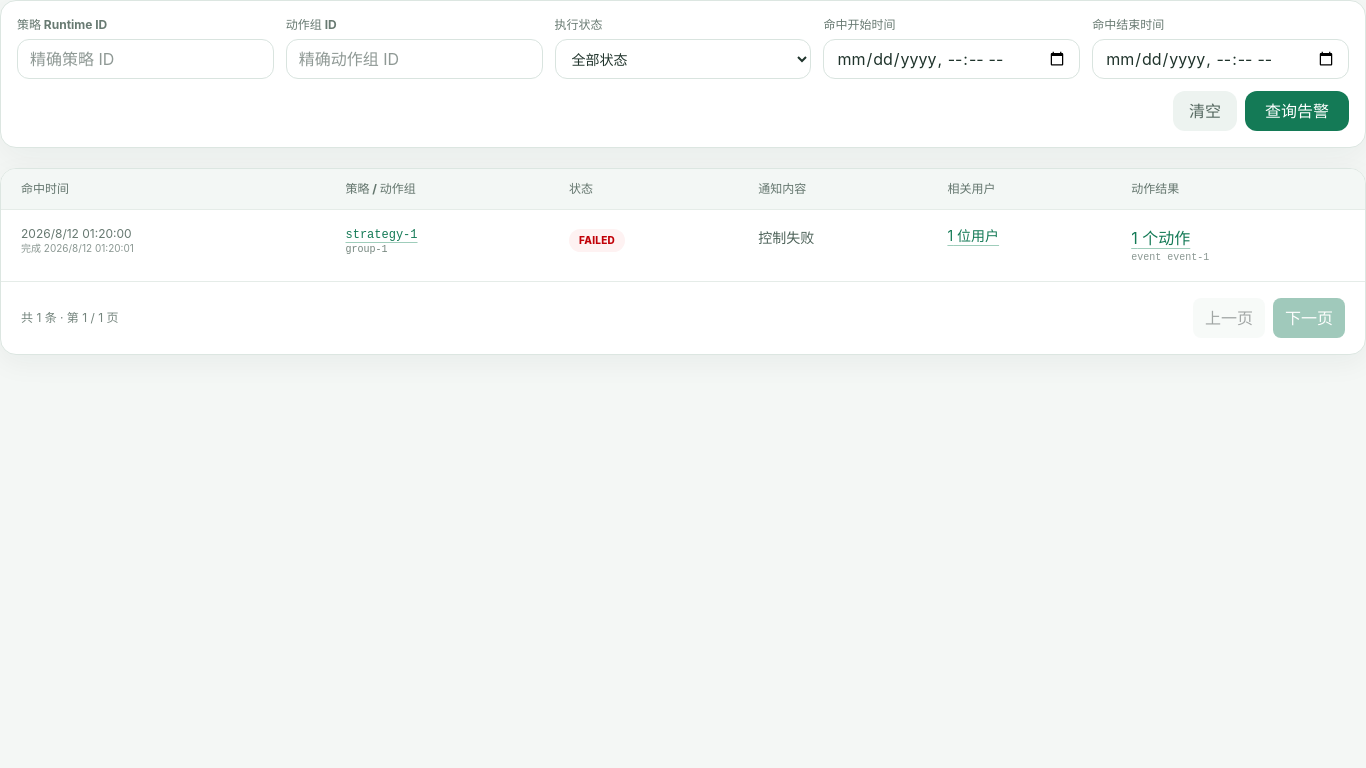
log explorers › opens alert actions and loads linked strategy
Click the button "1 个动作".
click(1161, 238)  # box [1131,226,1190,250]
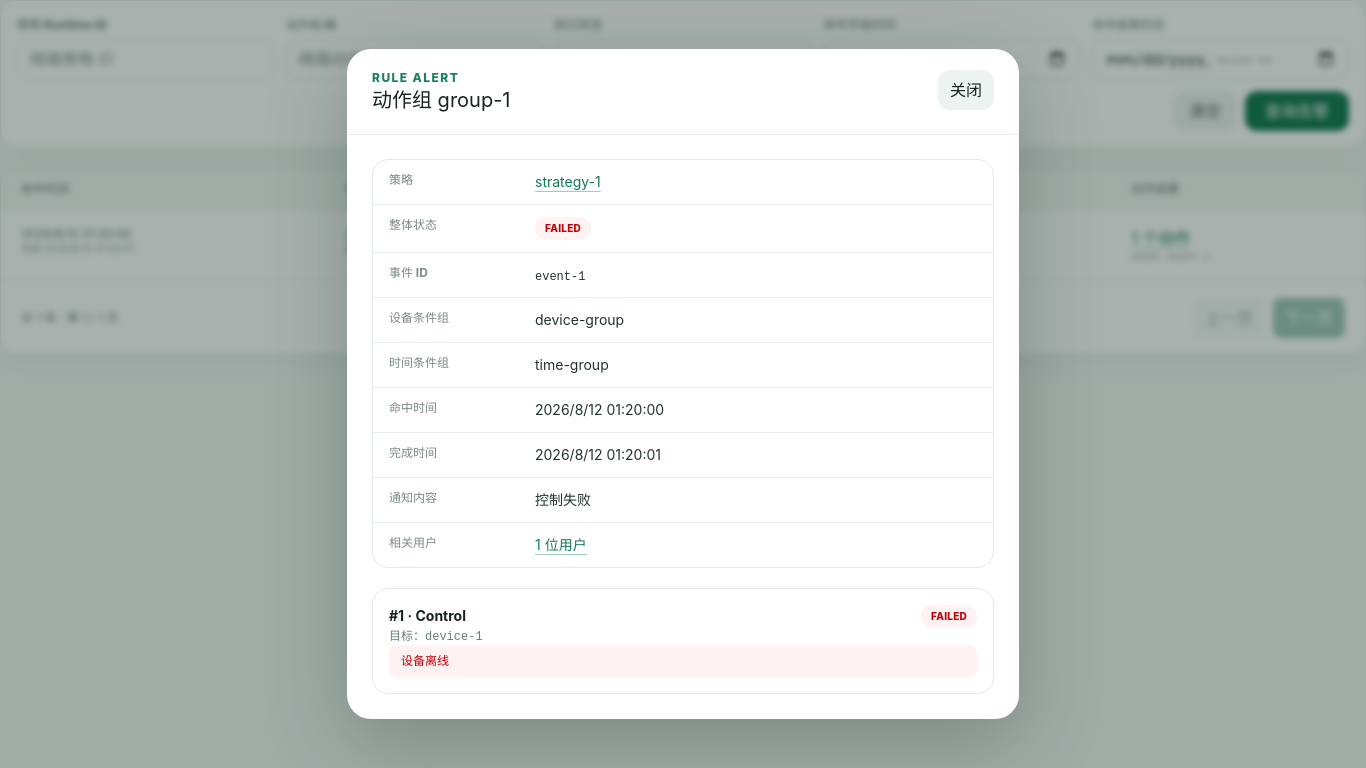
Check: the dialog "动作组 group-1" is shown
Check: the text "设备离线" is shown, box [389,645,977,677]
Click the button "strategy-1".
click(568, 182)  # box [535,172,601,192]
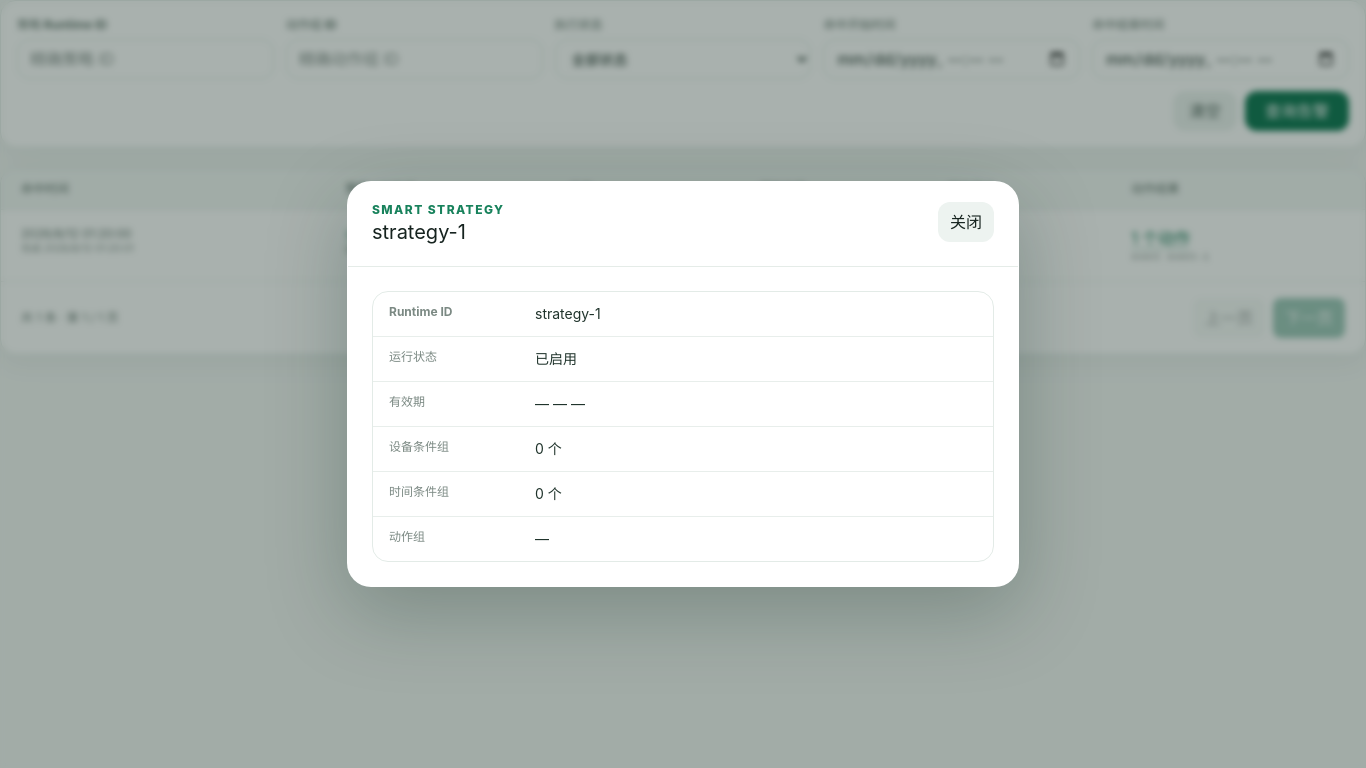
Check: the text "已启用" is shown, box [535,350,577,367]
